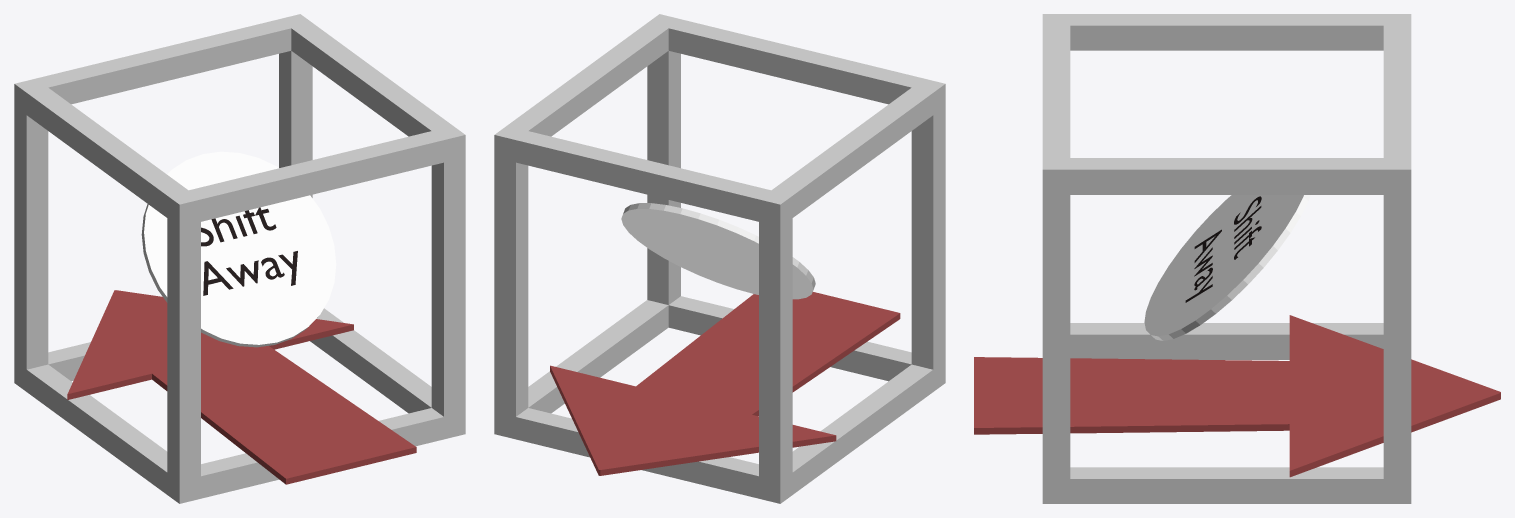
Rendered from MoveAway.glb.
3 views of the same model, side by side, from view 1: azimuth 30°, elevation 25°; view 2: azimuth 150°, elevation 25°; view 3: azimuth 270°, elevation 25° (orthographic). The views are drawn at different scales.
Visible parts, largest first — view 1: Frame, Arrow, Cylinder.001, Text.001; view 2: Frame, Arrow, Cylinder.001; view 3: Frame, Arrow, Cylinder.001, Text.001.
Part boxes in pixels (left/top/right/bottom): Frame: left=14, top=14, right=465, bottom=503; Arrow: left=67, top=290, right=416, bottom=484; Cylinder.001: left=141, top=151, right=336, bottom=347; Text.001: left=201, top=207, right=297, bottom=295; Frame: left=494, top=14, right=945, bottom=503; Arrow: left=550, top=292, right=900, bottom=475; Cylinder.001: left=621, top=203, right=815, bottom=299; Frame: left=1042, top=14, right=1411, bottom=503; Arrow: left=974, top=315, right=1500, bottom=477; Cylinder.001: left=1144, top=195, right=1310, bottom=340; Text.001: left=1185, top=196, right=1261, bottom=302.
Bounding box in the file's own units: 2.01 × 2 × 2.86.
